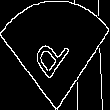P_SW: (33, 23, 77, 87)
